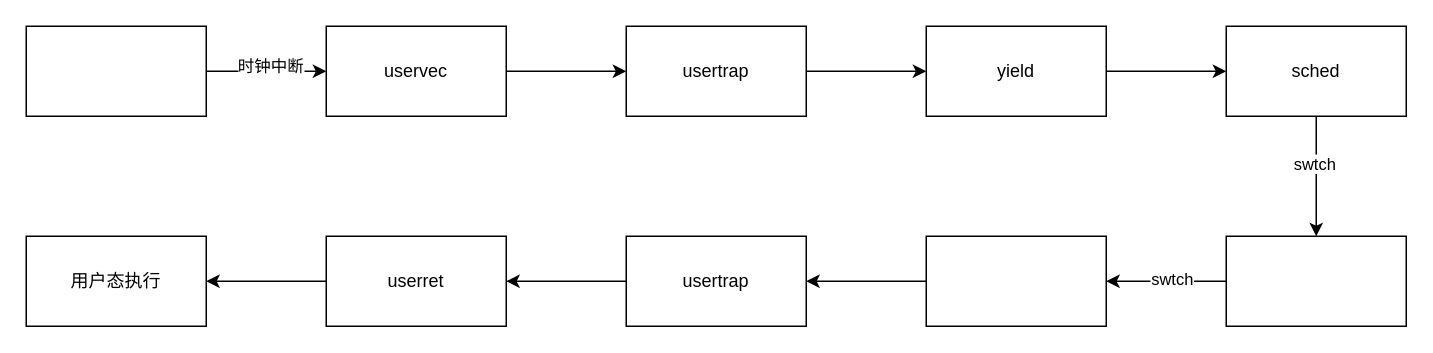
Some shapes in this 1433 by 353 pixel diagram are drawn without their labels. Here are the shapes that lost their labels. From the top down, the centre of each, then its label:
At (x=115, y=70): "用户进程".
At (x=1015, y=280): "另一个用户进程".
At (x=1315, y=280): "scheduler".
